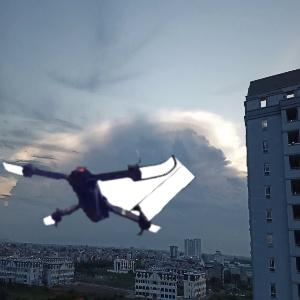drone: (6, 104, 172, 270)
